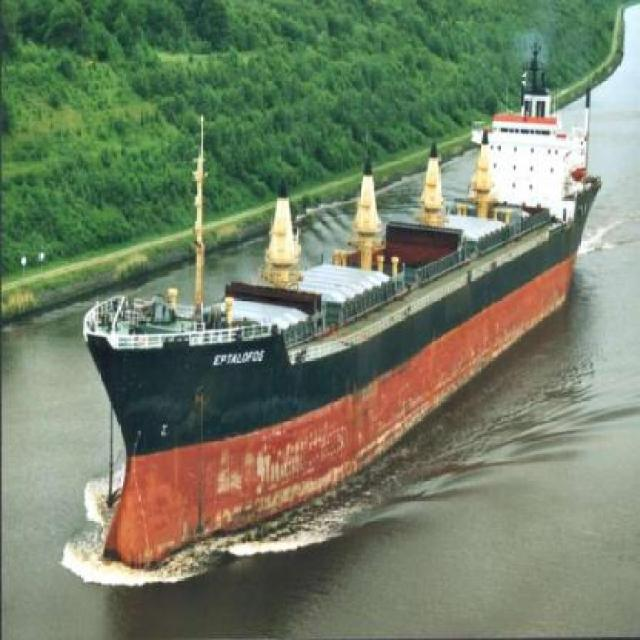ship: (67, 21, 596, 602)
